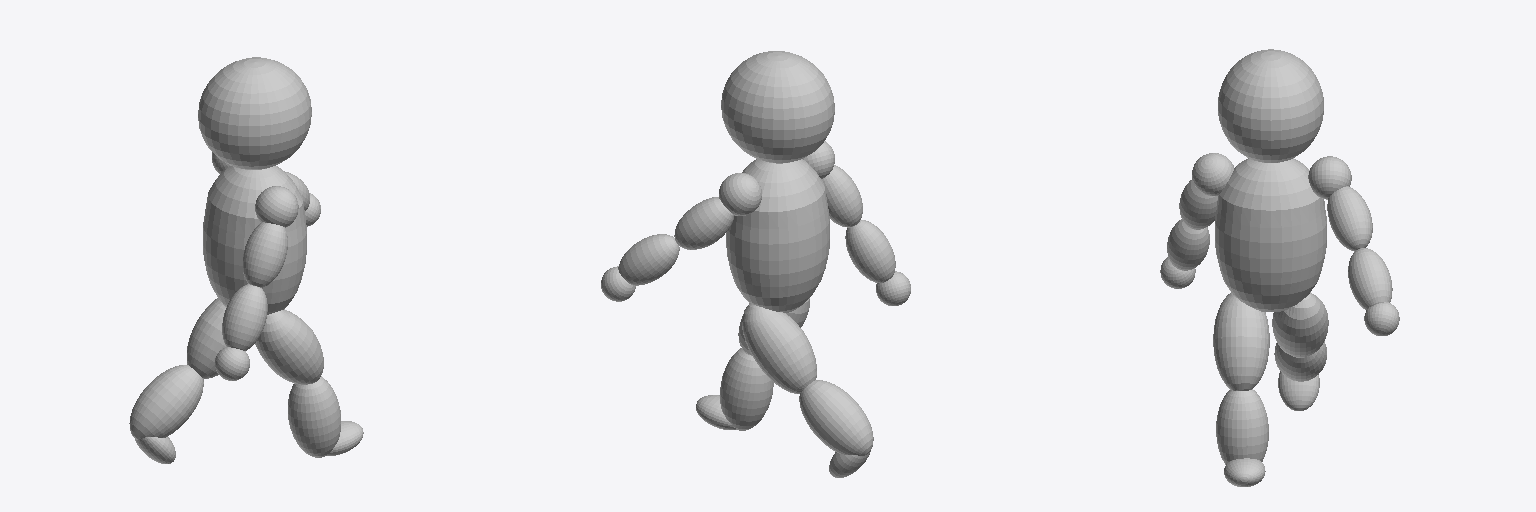
Rendered from Прототип.obj.
The picture shows the model from 3 angles: view 1: azimuth 30°, elevation 25°; view 2: azimuth 150°, elevation 25°; view 3: azimuth 270°, elevation 25°; orthographic projection.
Parts seen in each view (by area): view 1: HEad, Body, Голень_правая, Бедро_левое, Голень_левая, Предплечье_правое.001, Предплечье_правое, Бедро_правое, Плечо_левое, Sphere, Стопа_левая, Стопа_правая; view 2: Body, HEad, Бедро_правое, Голень_правая, Голень_левая, Предплечье_правое.001, Предплечье_левое.001, Предплечье_левое, Предплечье_правое, Плечо_правое, Sphere, Sphere.001 (+3 smaller); view 3: Body, HEad, Бедро_левое, Голень_левая, Бедро_правое, Предплечье_левое, Предплечье_левое.001, Предплечье_правое.001, Плечо_левое, Плечо_правое, Предплечье_правое, Голень_правая (+4 smaller).
Part boxes in pixels (x1,y1,x2,y2): HEad: (198,57,311,169); Body: (203,166,306,314); Голень_правая: (129,365,203,439); Бедро_левое: (255,309,323,384); Голень_левая: (288,376,340,457); Предплечье_правое.001: (222,284,267,350); Предплечье_правое: (243,222,287,287); Бедро_правое: (187,298,225,378); Плечо_левое: (255,186,298,227); Sphere: (215,347,249,380); Стопа_левая: (135,437,175,463); Стопа_правая: (327,421,363,455); Body: (726,159,829,312); HEad: (721,51,834,163); Бедро_правое: (742,303,816,393); Голень_правая: (799,380,873,455); Голень_левая: (720,348,773,430); Предплечье_правое.001: (845,220,895,282); Предплечье_левое.001: (618,234,679,285); Предплечье_левое: (674,197,734,249); Предплечье_правое: (821,165,862,227); Плечо_правое: (719,173,761,215); Sphere: (876,271,910,305); Sphere.001: (601,266,635,301); Body: (1215,158,1326,311); HEad: (1218,49,1323,162); Бедро_левое: (1213,292,1269,390); Голень_левая: (1216,389,1268,464); Бедро_правое: (1272,292,1328,357); Предплечье_левое: (1327,186,1372,251); Предплечье_левое.001: (1348,248,1392,309); Предплечье_правое.001: (1167,219,1209,270); Плечо_левое: (1192,153,1233,195); Плечо_правое: (1308,156,1351,199); Предплечье_правое: (1179,179,1217,229); Голень_правая: (1274,341,1326,381).
Size of the model in its own units: 4.16 by 6.94 by 3.8.